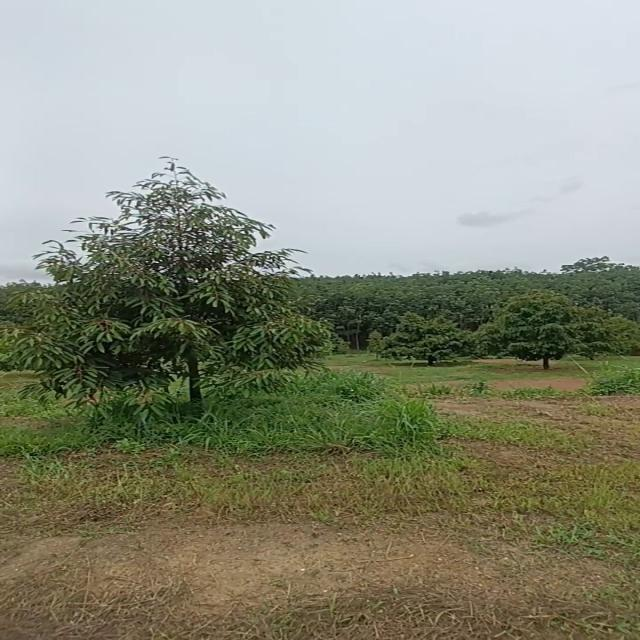Tree: (11, 149, 332, 414)
